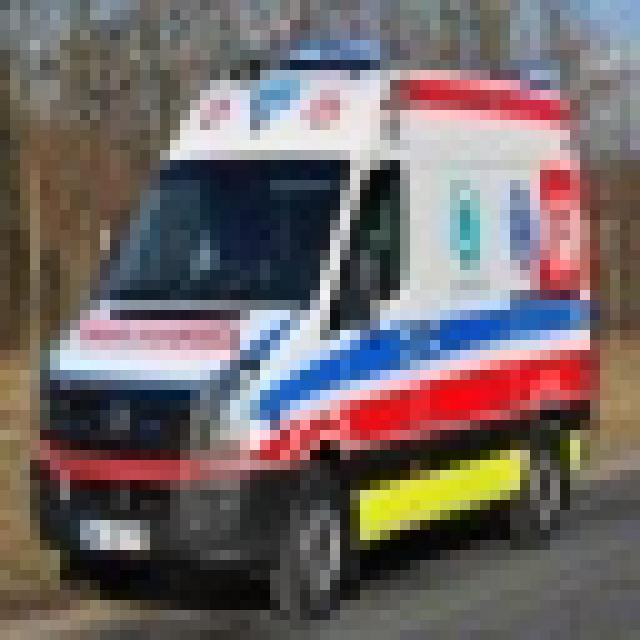Ambulance: (20, 30, 600, 610)
